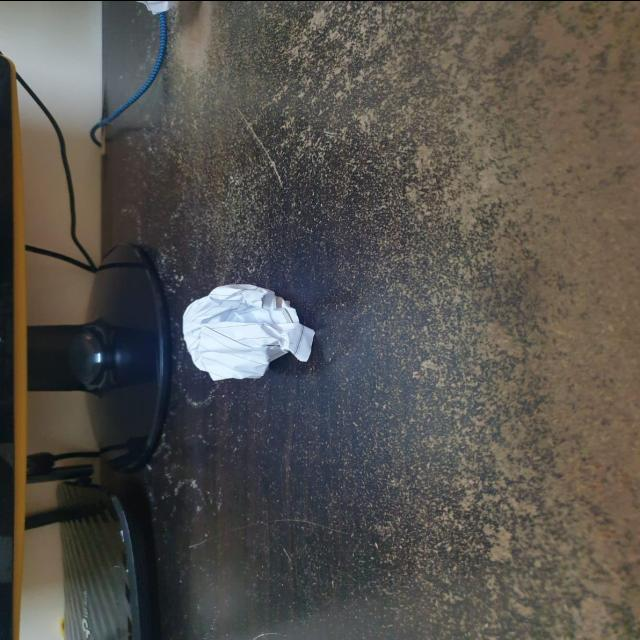kertas: (178, 278, 318, 382)
